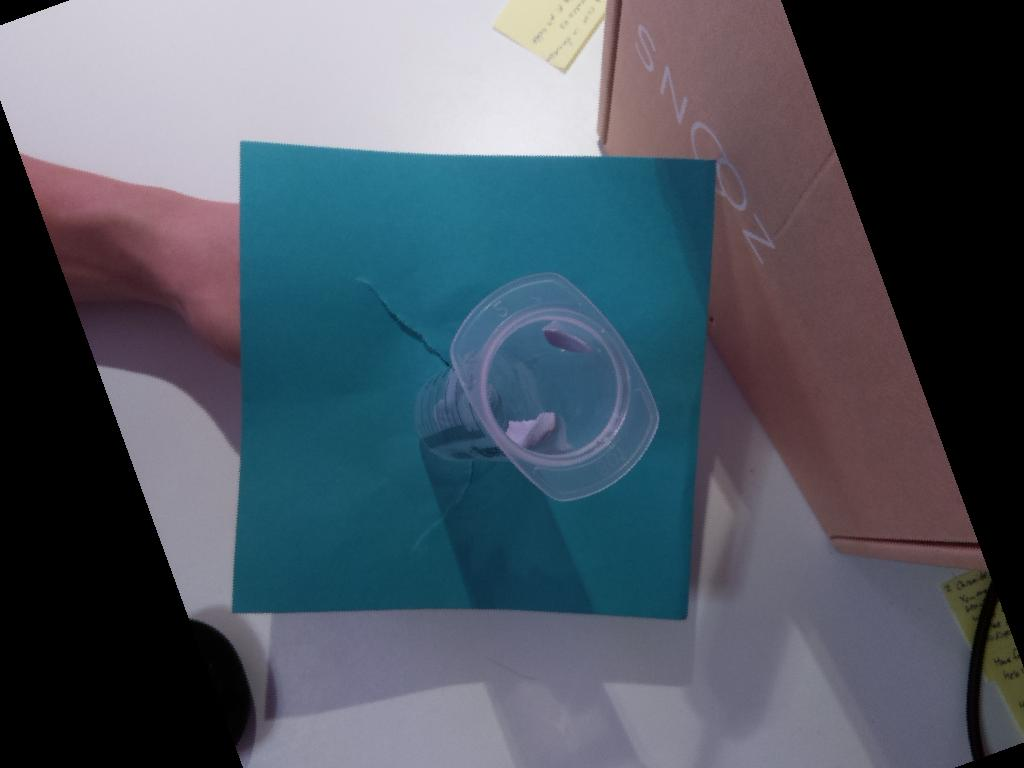dirty: (450, 272, 659, 501)
